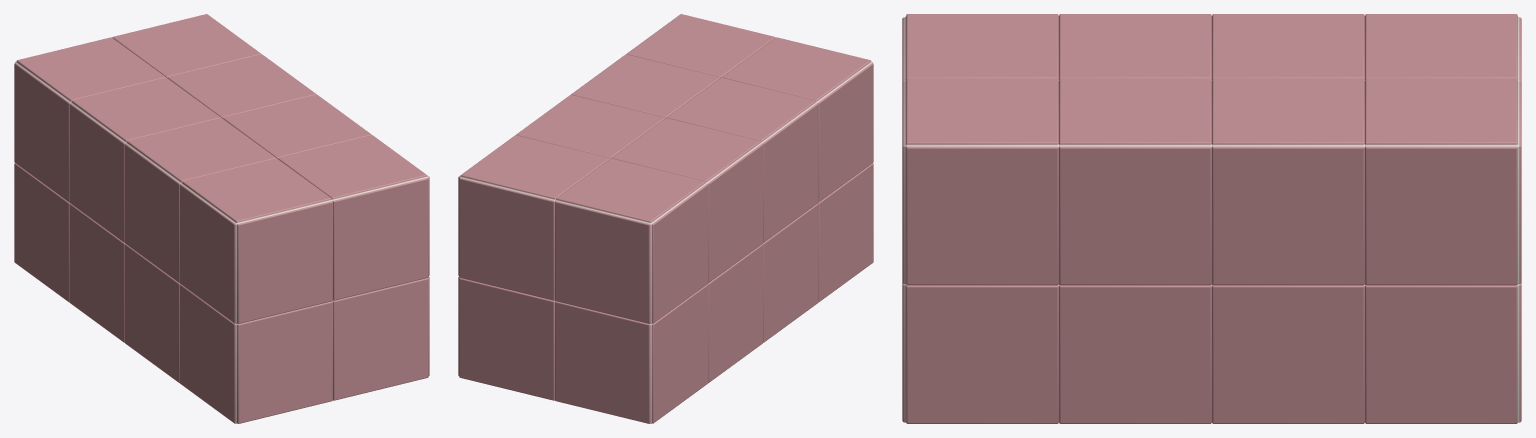
File: tile_table_2x2x4_10cm.gltf
3 views of the same model, side by side, from view 1: azimuth 30°, elevation 25°; view 2: azimuth 150°, elevation 25°; view 3: azimuth 270°, elevation 25° (orthographic). The views are drawn at different scales.
Parts seen in each view (by area): view 1: Cube; view 2: Cube; view 3: Cube.
Part boxes in pixels (x1=…): Cube: x1=14, y1=14, x2=429, y2=423; Cube: x1=458, y1=14, x2=873, y2=423; Cube: x1=902, y1=14, x2=1521, y2=423.
Size of the model in its own units: 1.13 by 1.11 by 2.23.
